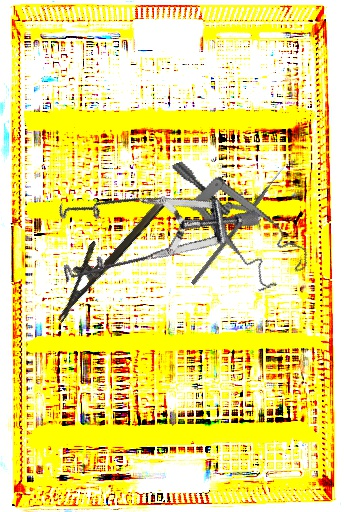Needle Holder: (38, 183, 169, 323)
Pusher: (190, 161, 290, 286)
Speculum: (31, 133, 263, 347), (170, 129, 315, 306)
